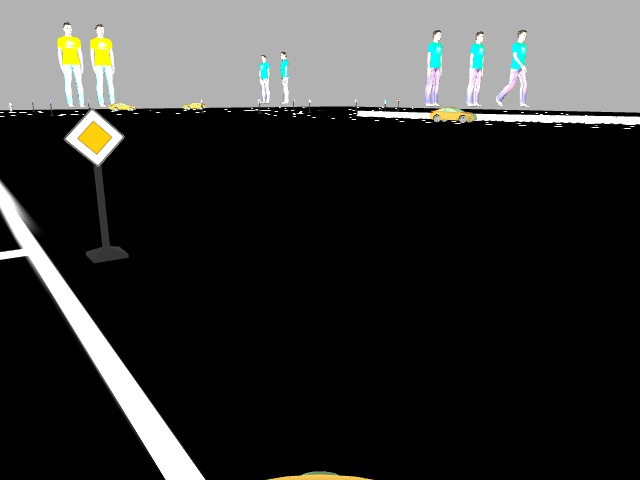Priority: (69, 107, 123, 165)
